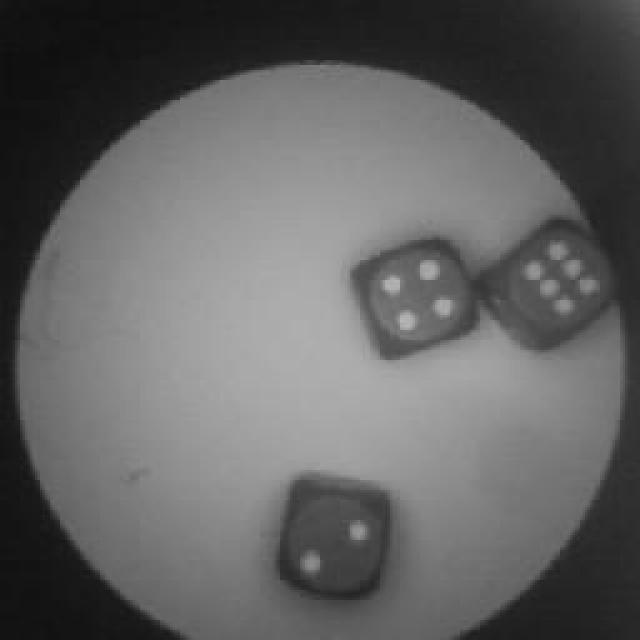dice_2: (272, 472, 398, 602)
dice_4: (353, 233, 485, 355)
dice_6: (490, 218, 625, 348)
